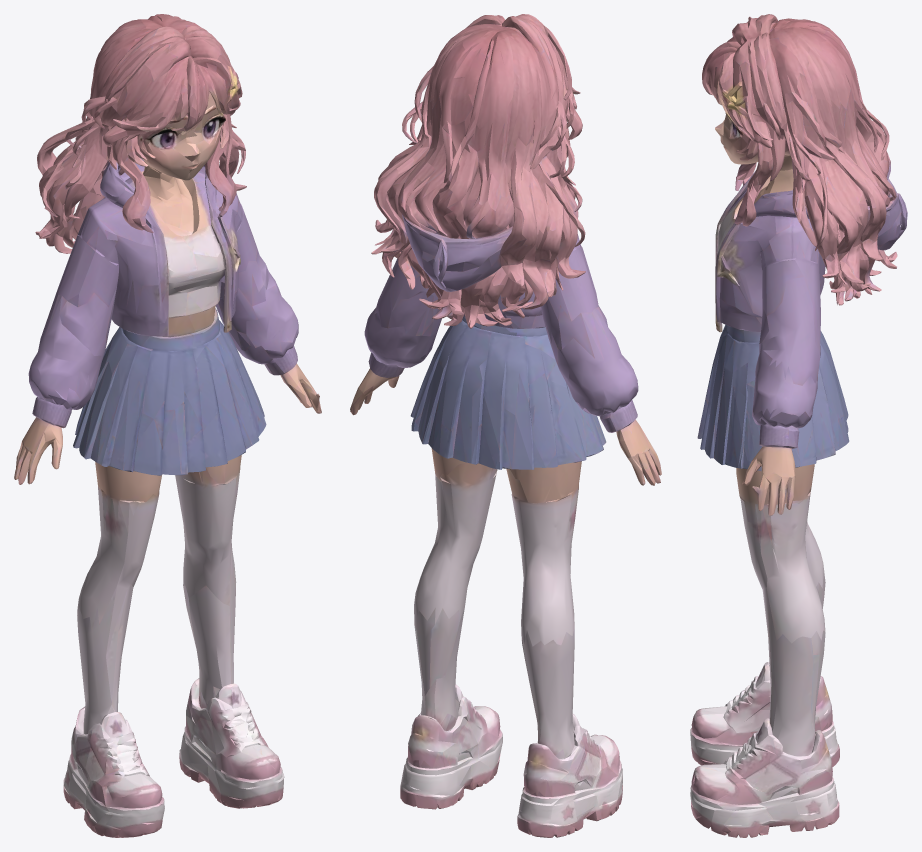
Rendered from byeolha_mobile.glb.
3 views of the same model, side by side, from view 1: azimuth 30°, elevation 25°; view 2: azimuth 150°, elevation 25°; view 3: azimuth 270°, elevation 25° (orthographic).
Bounding box in the file's own units: 0.7746 × 1.9 × 0.4841.
Materials: 1 (1 with a texture image).
